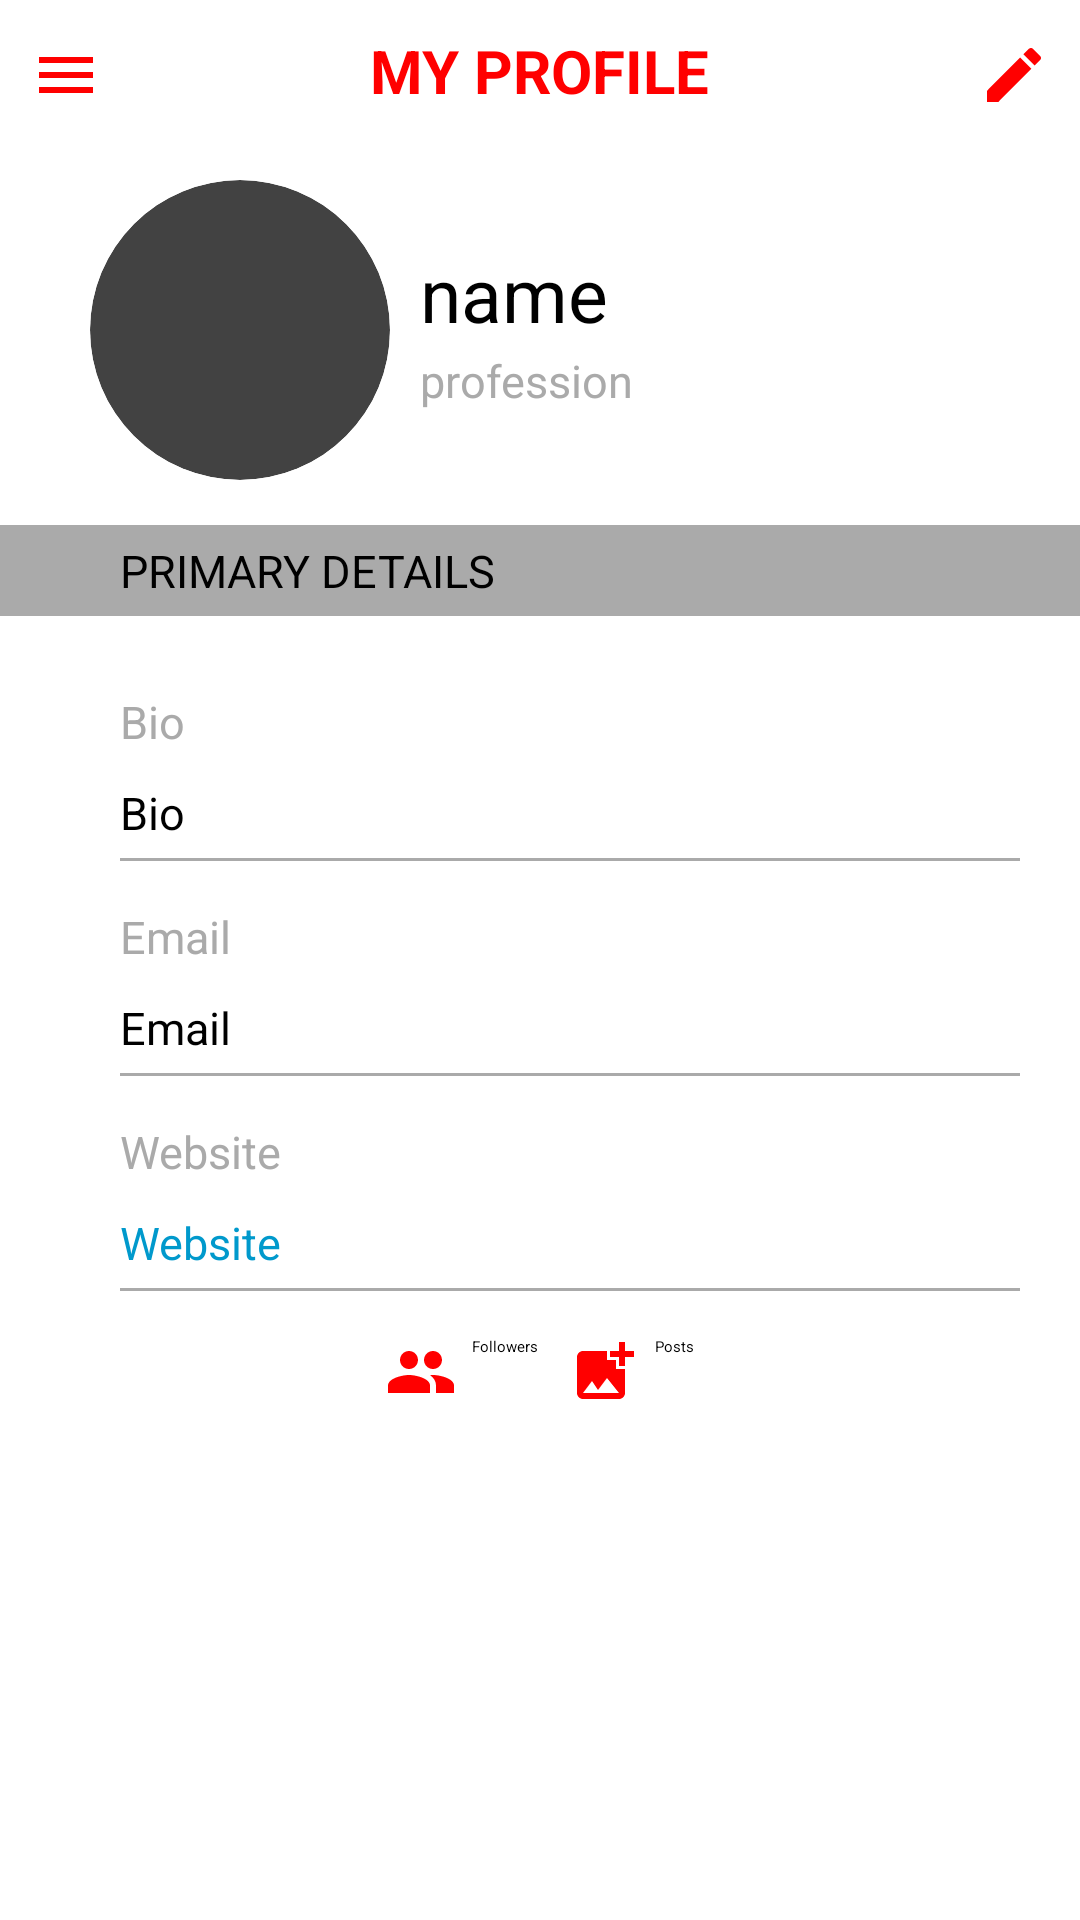

Locate icon controls on the screen. Image size 1080*1920, boxes as box(x1, y1, x2, y2).
edit: box(987, 48, 1041, 102)
menu: box(39, 57, 93, 93)
